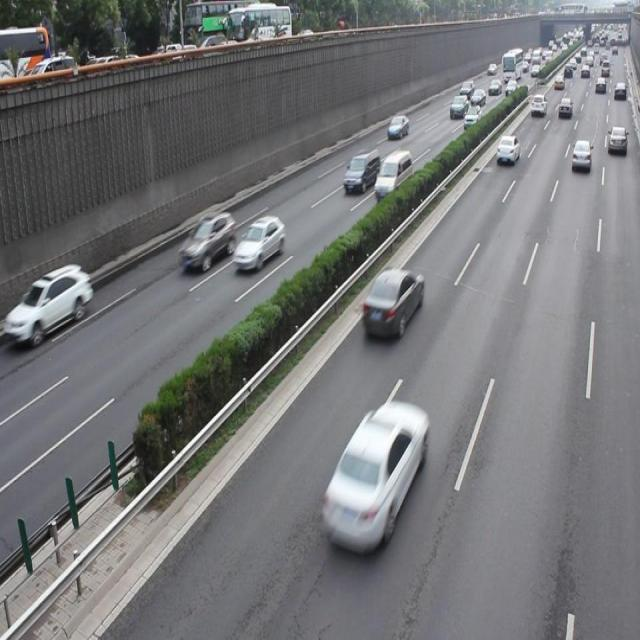car: (318, 400, 427, 558), (14, 263, 92, 345), (361, 265, 423, 338), (178, 209, 235, 271), (232, 215, 285, 272)
truck: (373, 149, 412, 199), (342, 148, 379, 194)
